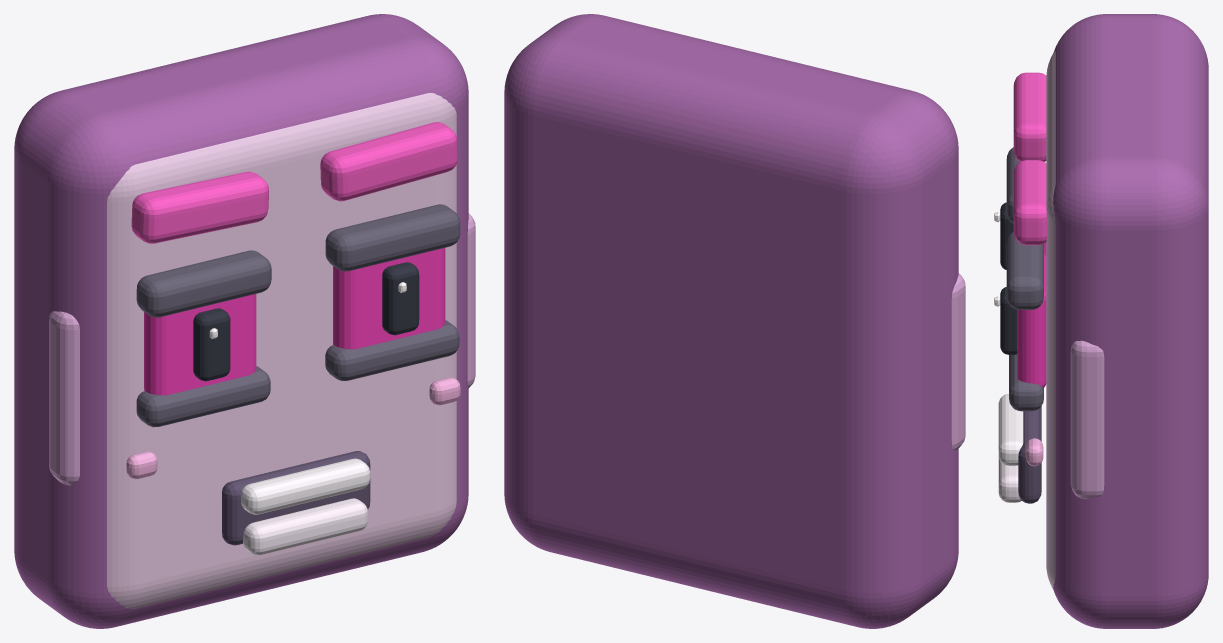
The picture shows the model from 3 angles, left to right: view 1: azimuth 30°, elevation 25°; view 2: azimuth 150°, elevation 25°; view 3: azimuth 270°, elevation 25°; orthographic projection. The views are drawn at different scales.
Parts seen in each view (by area): view 1: Face_Base, Head_Shell, Brow_Right, Brow_Left, EyePanel_Left, EyePanel_Right, EyeTopLid_Right, EyeTopLid_Left, Temple_Left, Mouth_Lower, Mouth_Upper, EyeBottomLid_Right (+7 smaller); view 2: Head_Shell, Temple_Left; view 3: Head_Shell, Temple_Right, Face_Base, Brow_Left, Brow_Right, EyeTopLid_Right, EyePanel_Right, Mouth_Cavity, Mouth_Upper, EyeBottomLid_Right, Pupil_Right, Mouth_Lower (+3 smaller).
Part boxes in pixels (bbox=[...]): Face_Base: bbox=[107, 93, 456, 609]; Head_Shell: bbox=[14, 14, 468, 628]; Brow_Right: bbox=[320, 122, 457, 201]; Brow_Left: bbox=[131, 171, 268, 243]; EyePanel_Left: bbox=[144, 294, 256, 395]; EyePanel_Right: bbox=[333, 248, 445, 349]; EyeTopLid_Right: bbox=[325, 204, 460, 271]; EyeTopLid_Left: bbox=[136, 250, 271, 317]; Temple_Left: bbox=[49, 311, 79, 485]; Mouth_Lower: bbox=[243, 498, 367, 555]; Mouth_Upper: bbox=[241, 458, 370, 514]; EyeBottomLid_Right: bbox=[325, 320, 459, 380]; Head_Shell: bbox=[504, 14, 958, 628]; Temple_Left: bbox=[951, 273, 965, 449]; Head_Shell: bbox=[1053, 14, 1208, 628]; Temple_Right: bbox=[1070, 340, 1104, 499]; Face_Base: bbox=[1046, 51, 1055, 589]; Brow_Left: bbox=[1013, 72, 1046, 161]; Brow_Right: bbox=[1013, 160, 1046, 245]; EyeTopLid_Right: bbox=[1006, 231, 1043, 309]; EyePanel_Right: bbox=[1017, 253, 1046, 387]; Mouth_Cavity: bbox=[1018, 406, 1041, 503]; Mouth_Upper: bbox=[998, 394, 1023, 465]; EyeBottomLid_Right: bbox=[1009, 354, 1043, 411]; Pupil_Right: bbox=[1000, 287, 1017, 354]; Mouth_Lower: bbox=[998, 456, 1021, 502].
Bounding box in the file's own units: 1.9 × 2.22 × 0.924.
